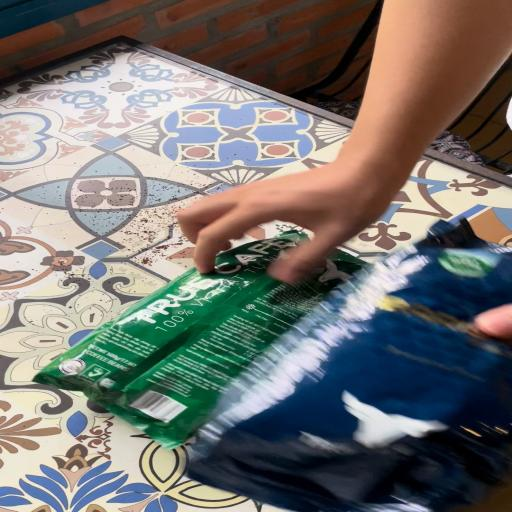cafe_hat: (189, 220, 512, 512)
cafe_xay: (34, 230, 365, 449)
